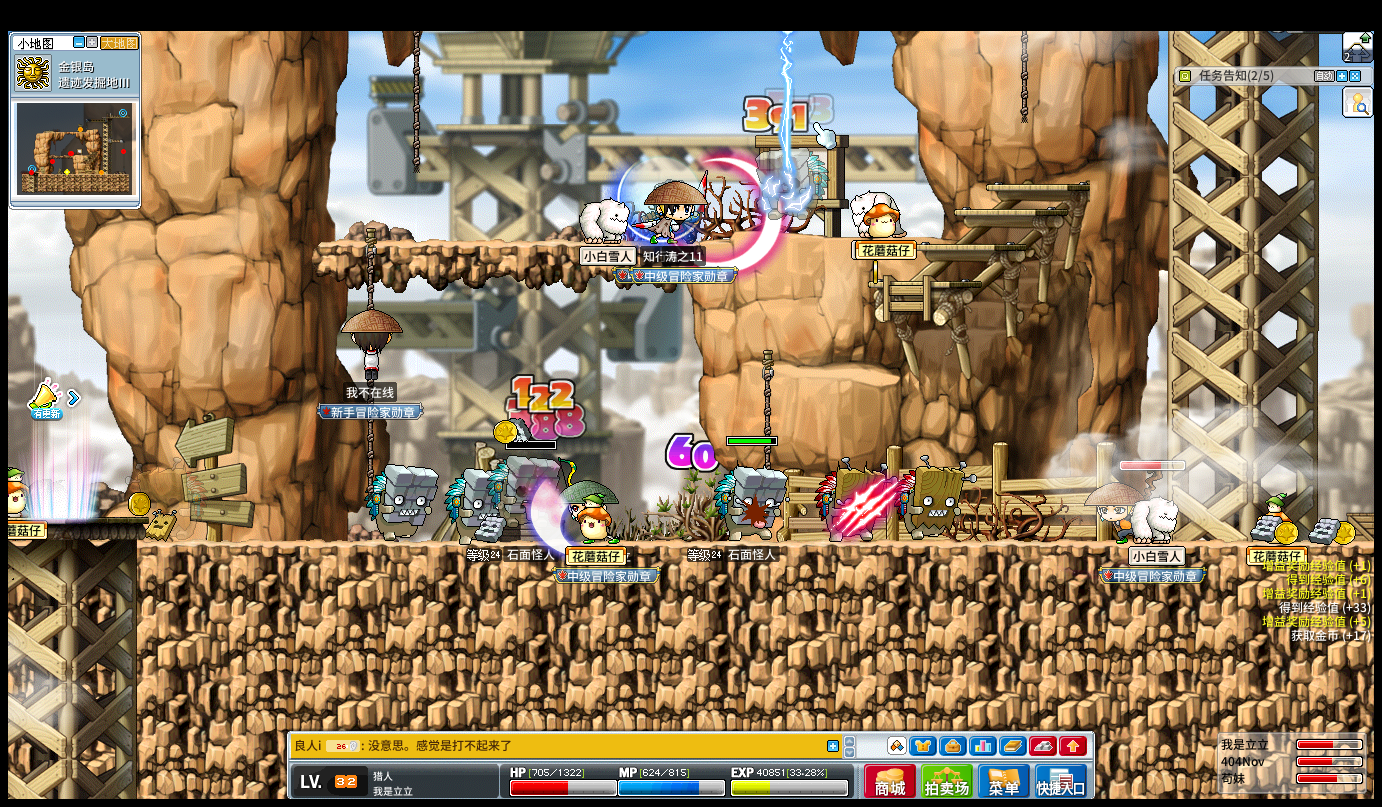floor: (318, 239, 707, 249), (790, 364, 900, 385), (864, 279, 980, 289), (8, 517, 150, 525), (953, 207, 1065, 215), (838, 234, 956, 241), (917, 243, 1027, 250), (984, 184, 1091, 191)
monster: (894, 456, 970, 540), (367, 463, 438, 543), (817, 459, 887, 540), (714, 466, 787, 542), (757, 148, 831, 220), (444, 469, 497, 544), (491, 457, 553, 479)
rope: (413, 30, 423, 169), (760, 348, 772, 441), (363, 227, 375, 309), (1018, 31, 1028, 122), (367, 415, 375, 471)
